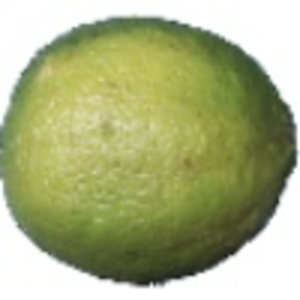limão: (1, 15, 300, 285)
